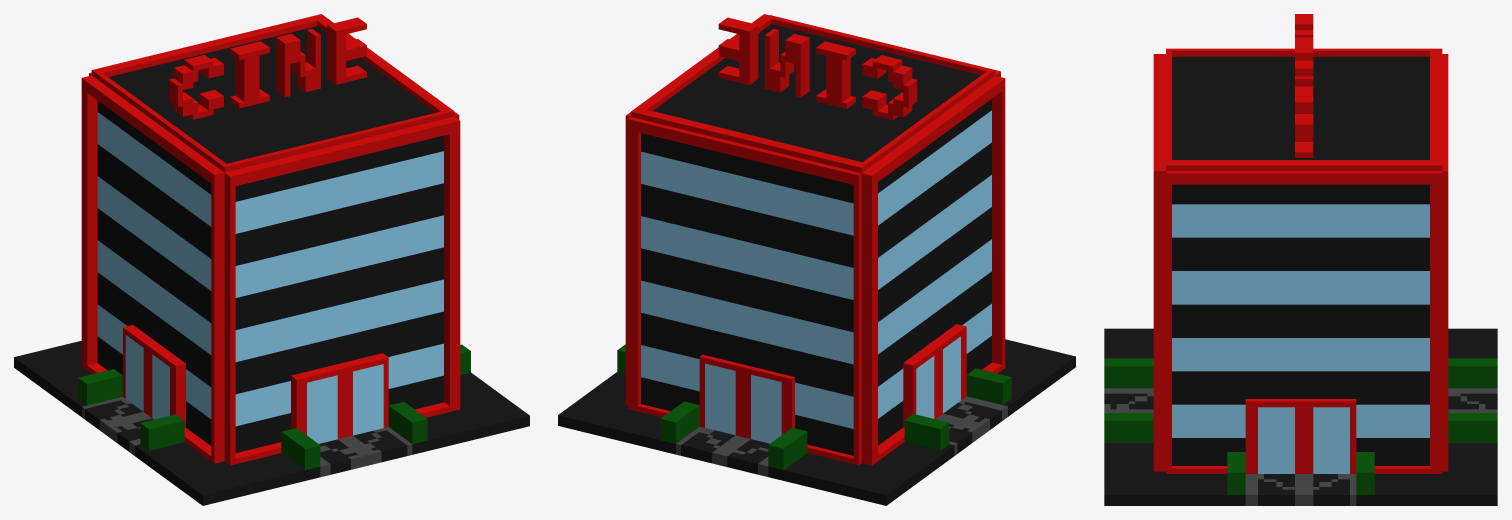
The model's file is EntertainmentCinema2WinWin.obj.
3 views of the same model, side by side, from view 1: azimuth 30°, elevation 25°; view 2: azimuth 150°, elevation 25°; view 3: azimuth 270°, elevation 25° (orthographic). The views are drawn at different scales.
Parts seen in each view (by area): view 1: EntertainmentCinema2WinWin; view 2: EntertainmentCinema2WinWin; view 3: EntertainmentCinema2WinWin.
Part boxes in pixels (x1,y1,x2,y2): EntertainmentCinema2WinWin: [14, 14, 529, 505]; EntertainmentCinema2WinWin: [558, 14, 1075, 505]; EntertainmentCinema2WinWin: [1104, 14, 1497, 505].
Bounding box in the file's own units: 64 × 66 × 64.
Materials: 1 (1 with a texture image).
